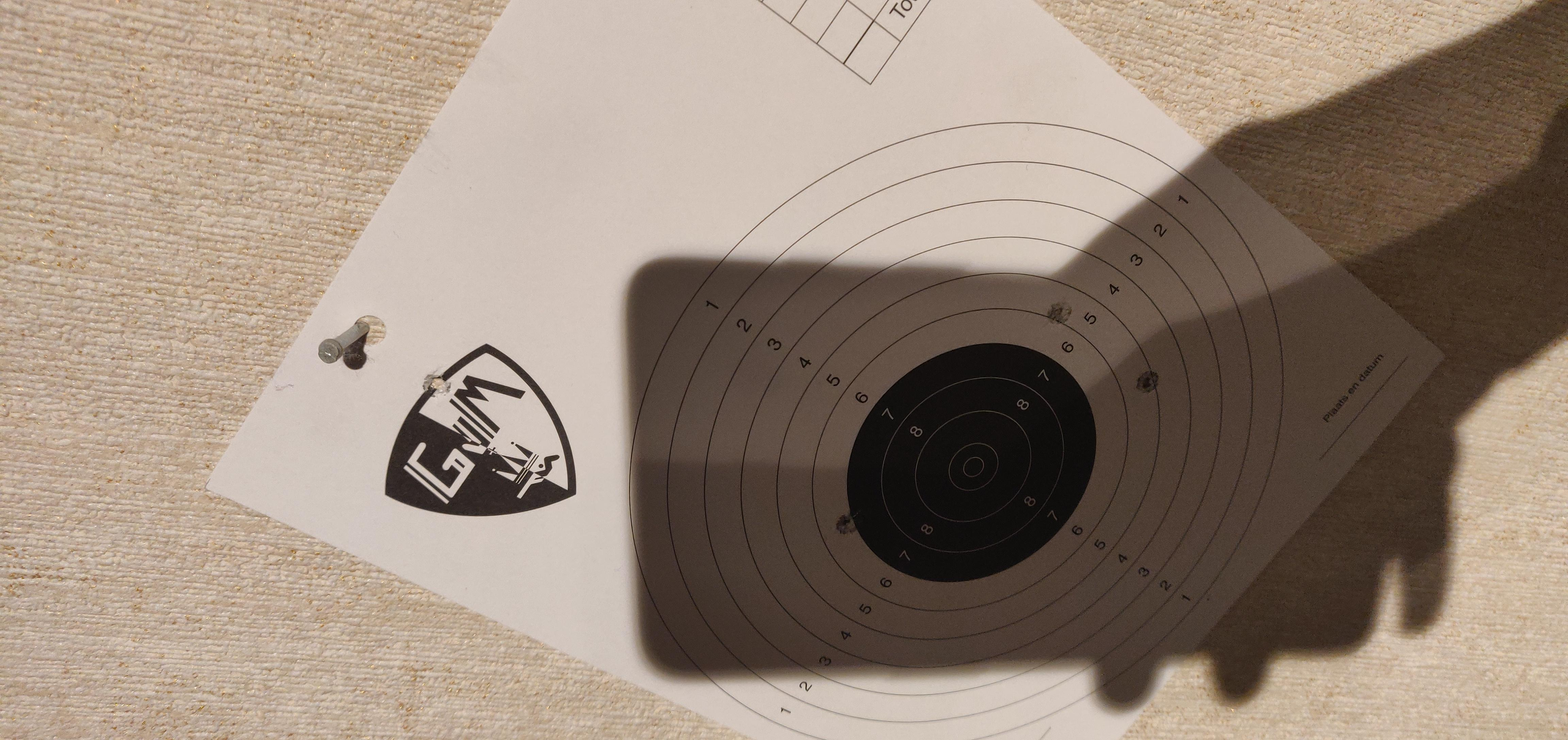hole: (721, 198, 783, 213), (430, 393, 485, 407), (733, 536, 789, 549), (880, 494, 928, 506)
